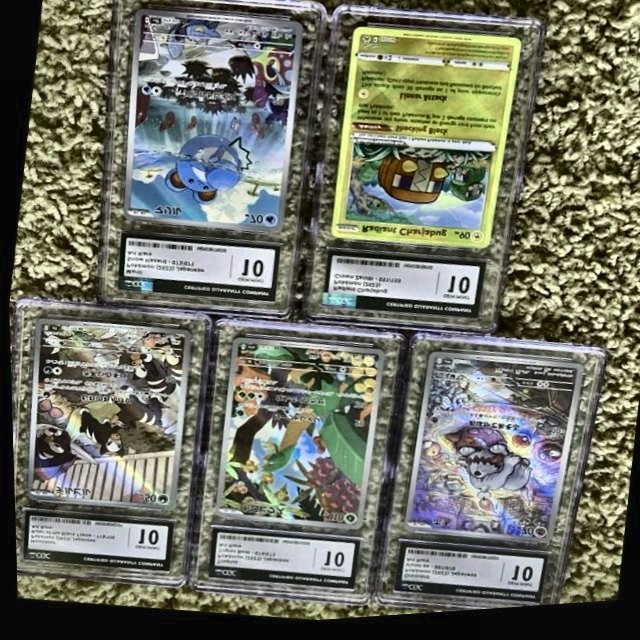card: (328, 30, 521, 255), (118, 8, 306, 237), (399, 356, 582, 551), (209, 339, 382, 535), (22, 316, 190, 512)
